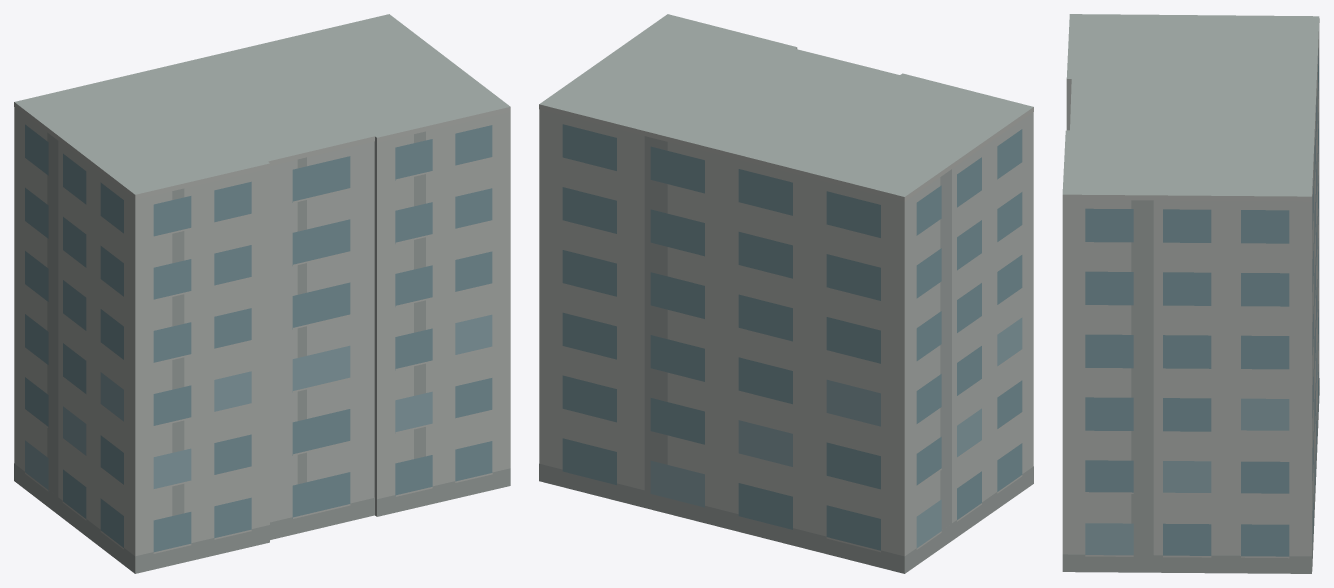
The model's file is survey-upis-32577348.glb.
3 renders of one model, left to right at view 1: azimuth 30°, elevation 25°; view 2: azimuth 150°, elevation 25°; view 3: azimuth 270°, elevation 25°, orthographic.
Visible parts, largest first — view 1: survey-upis-32577348.tmp; view 2: survey-upis-32577348.tmp; view 3: survey-upis-32577348.tmp.
Boxes of the visible parts, x1,y1,x2,y2 form: survey-upis-32577348.tmp: (14, 14, 510, 573); survey-upis-32577348.tmp: (539, 14, 1033, 573); survey-upis-32577348.tmp: (1062, 14, 1319, 573).
Bounding box in the file's own units: 19.21 × 18.5 × 11.43.
